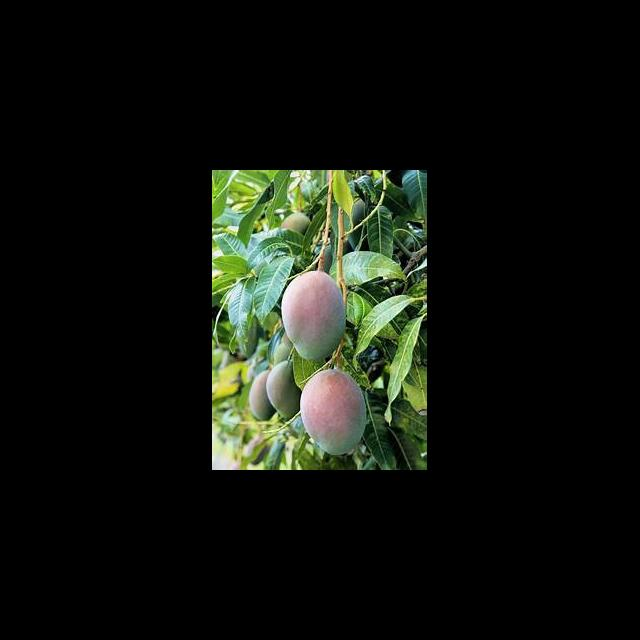mango: (284, 271, 346, 361), (302, 373, 368, 455)
